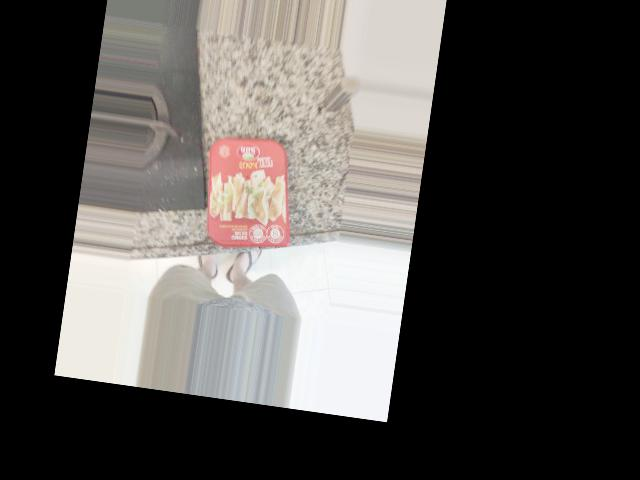cheese: (189, 90, 295, 209)
